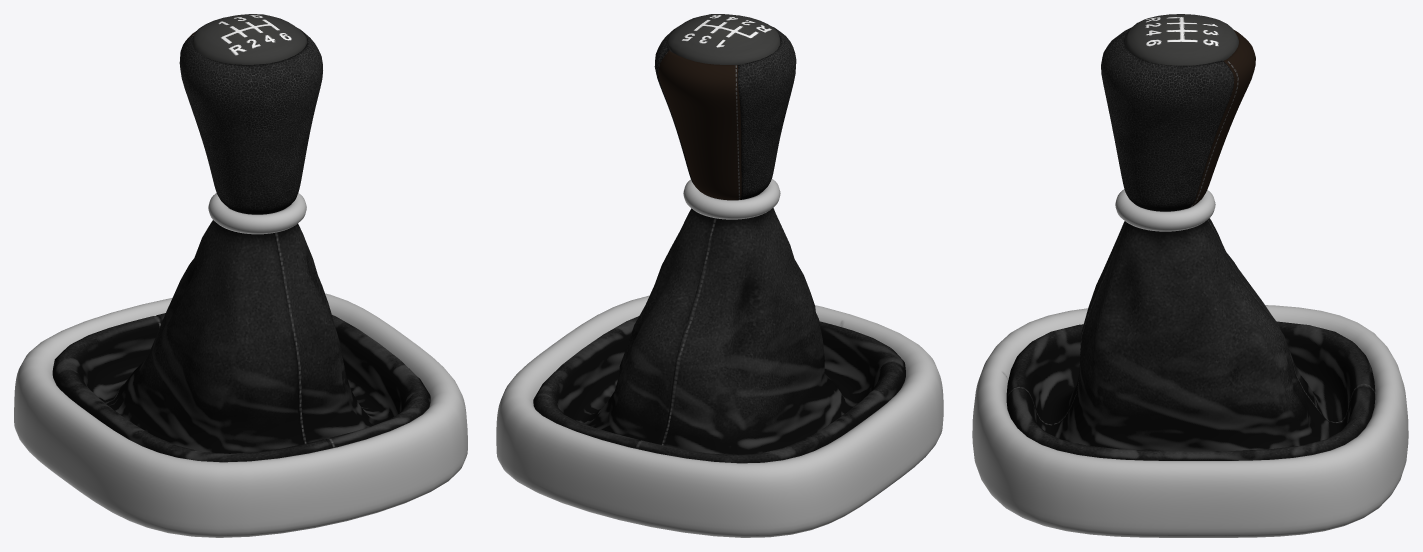
The picture shows the model from 3 angles, left to right: view 1: azimuth 30°, elevation 25°; view 2: azimuth 150°, elevation 25°; view 3: azimuth 270°, elevation 25°; orthographic projection. The views are drawn at different scales.
Parts seen in each view (by area): view 1: gear 1, top.001; view 2: gear 1, top.001; view 3: gear 1, top.001.
Part boxes in pixels (<box>): gear 1: <box>52,14,430,462</box>; top.001: <box>14,293,467,537</box>; gear 1: <box>533,14,905,463</box>; top.001: <box>496,295,943,537</box>; gear 1: <box>1006,14,1375,460</box>; top.001: <box>972,305,1408,537</box>.
Size of the model in its own units: 4.71 by 5.46 by 4.98.
Materials: 3 (3 with a texture image).
